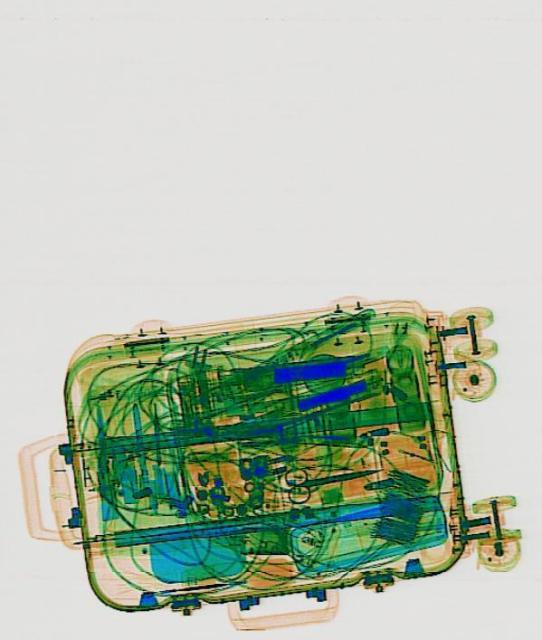Scissors: (281, 450, 386, 504)
